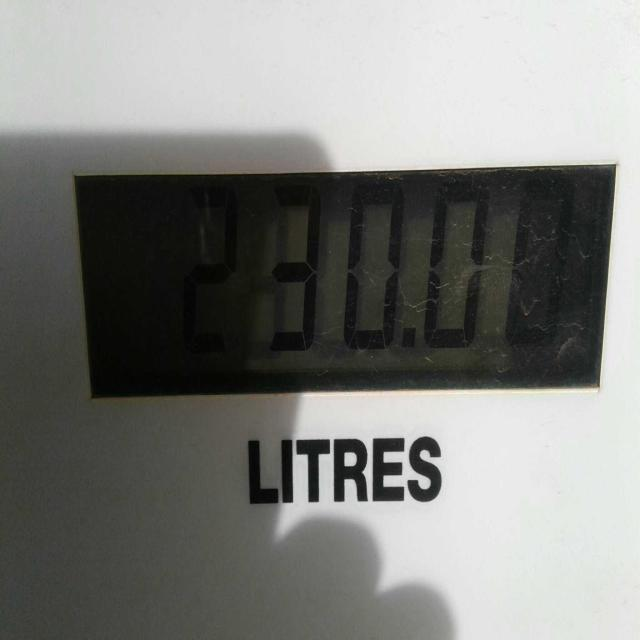.: (394, 318, 421, 375)
0: (504, 166, 583, 374), (411, 171, 495, 365), (335, 183, 402, 375)
2: (171, 185, 251, 365)
3: (261, 190, 340, 368)
